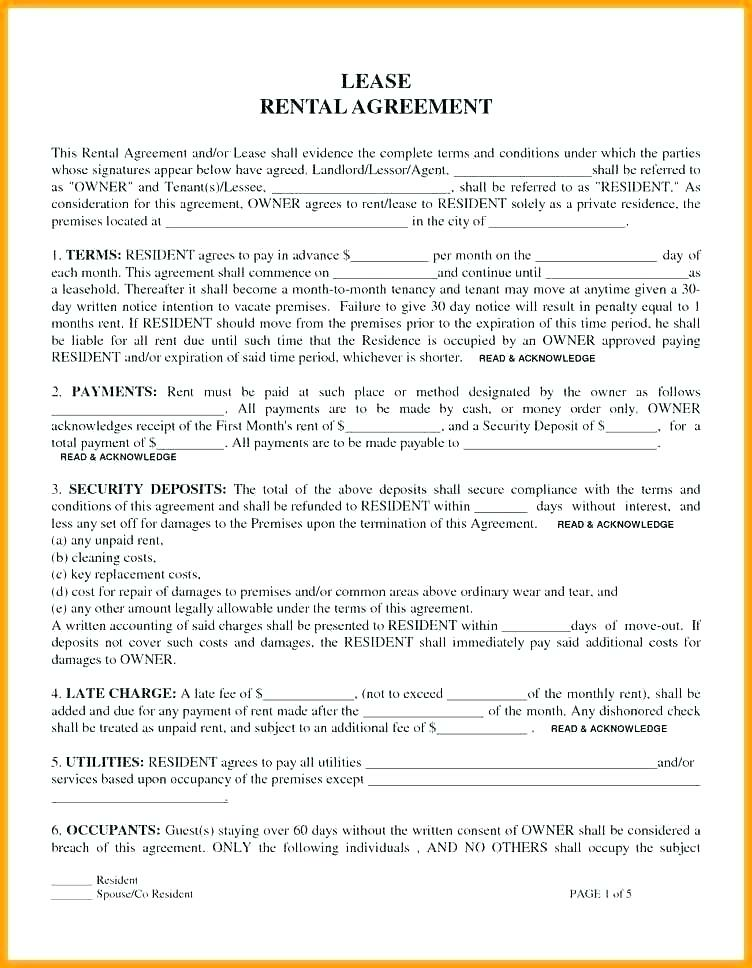textline: (363, 754, 660, 775), (364, 776, 710, 793), (167, 212, 409, 232), (464, 435, 667, 457), (50, 790, 233, 811), (273, 177, 449, 198), (450, 158, 599, 182), (487, 212, 634, 235), (53, 401, 227, 420), (366, 699, 482, 722), (533, 244, 660, 264), (543, 265, 688, 282), (345, 416, 446, 438), (440, 719, 536, 741), (263, 683, 356, 705), (328, 265, 436, 283), (350, 244, 431, 267), (448, 682, 527, 704), (500, 613, 573, 636), (158, 436, 226, 455), (51, 862, 97, 889), (472, 497, 531, 517), (46, 886, 97, 909), (607, 417, 660, 438)
